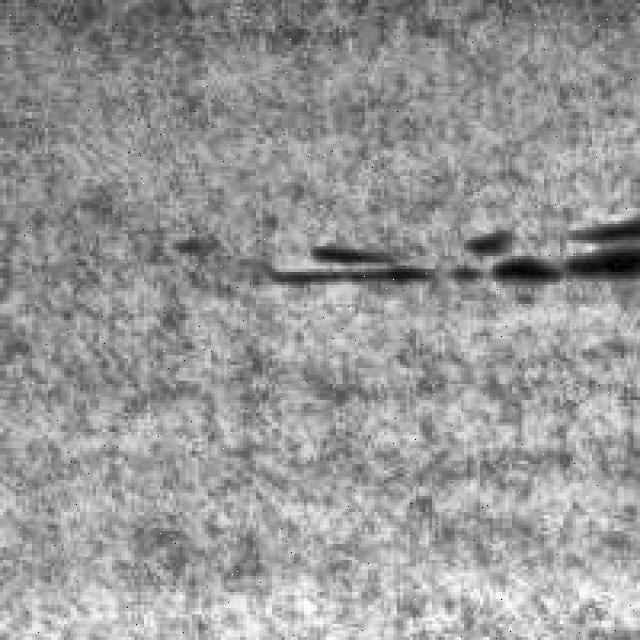Patches: (253, 202, 640, 294)
